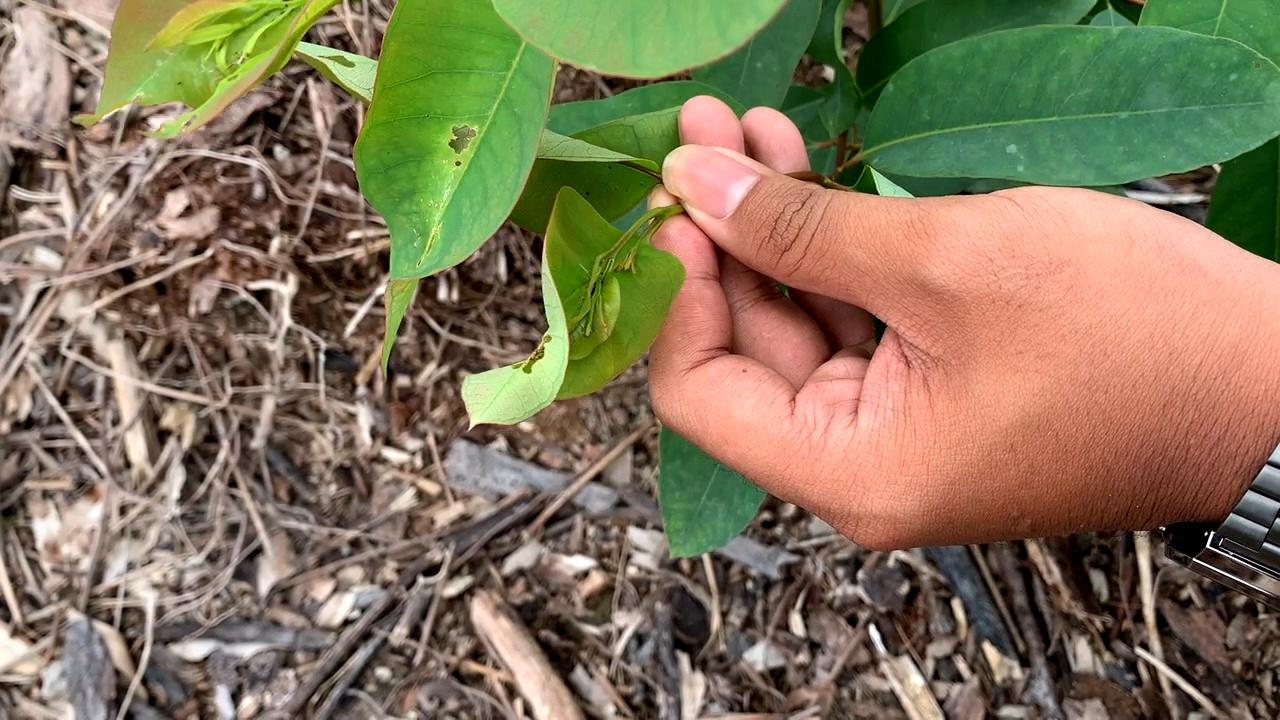Leaf Roller - Leaf: (542, 216, 652, 384)
